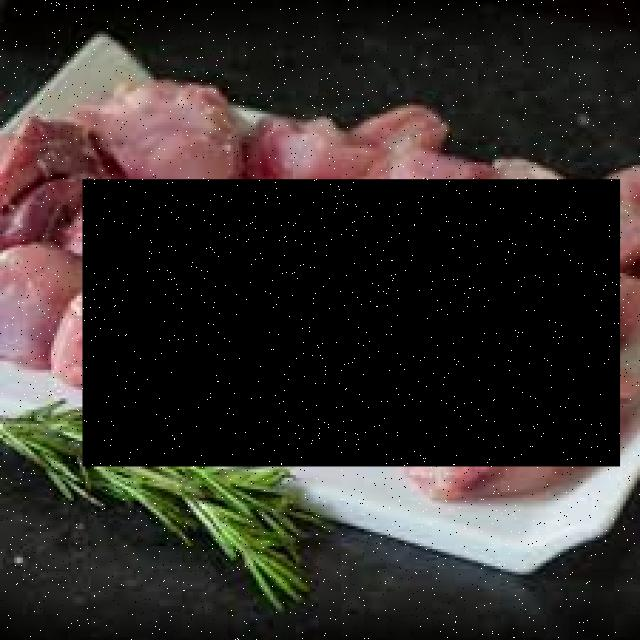Chicken: (85, 179, 623, 467)
